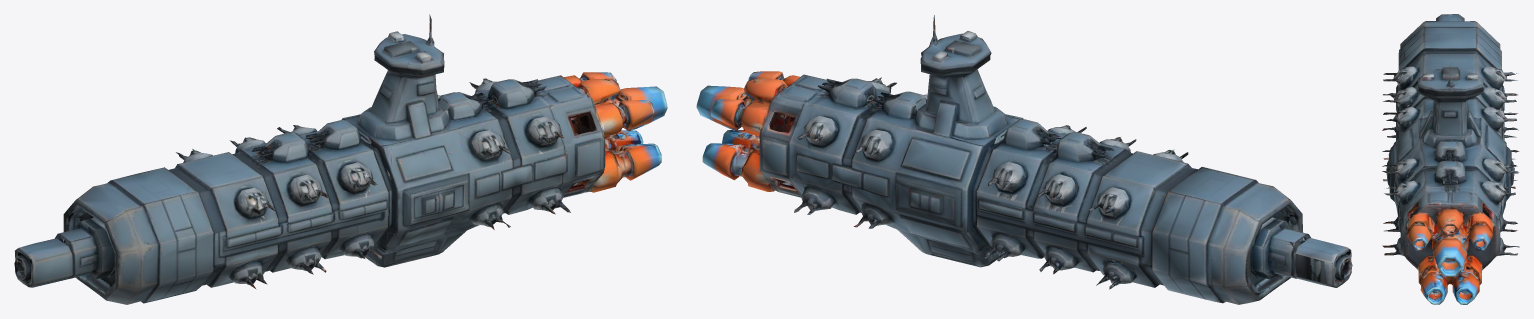
File: dreadnought.glb
The picture shows the model from 3 angles, left to right: view 1: azimuth 30°, elevation 25°; view 2: azimuth 150°, elevation 25°; view 3: azimuth 270°, elevation 25°; orthographic projection. The views are drawn at different scales.
Visible parts, largest first — view 1: Mesh1.0; view 2: Mesh1.0; view 3: Mesh1.0.
Part boxes in pixels (bbox=[...]): Mesh1.0: bbox=[14, 14, 667, 304]; Mesh1.0: bbox=[696, 15, 1352, 304]; Mesh1.0: bbox=[1382, 14, 1519, 304].
Bounding box in the file's own units: 1.91 × 0.6614 × 0.4453.
Materials: 1 (1 with a texture image).
